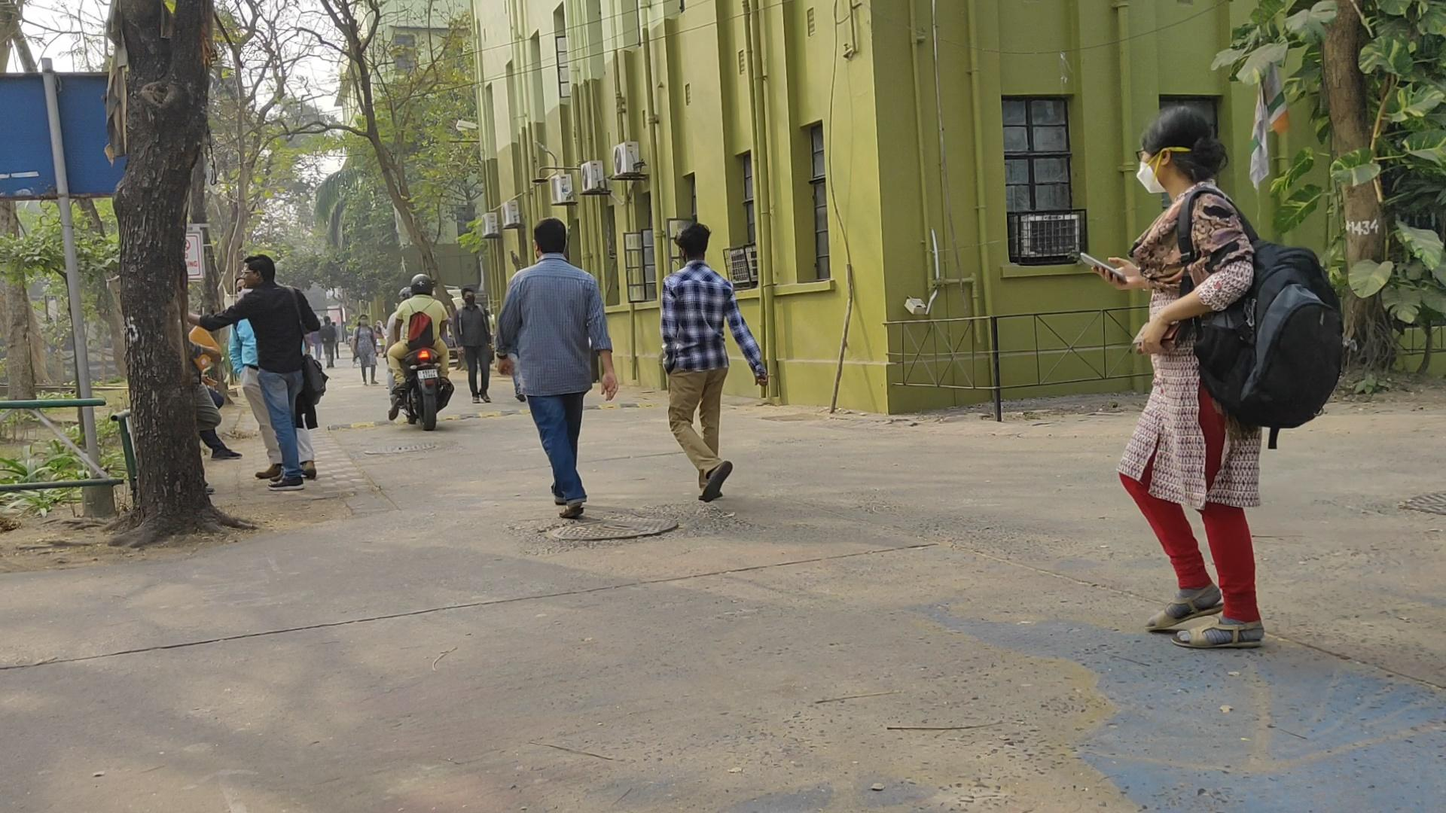bike: (383, 273, 454, 431)
